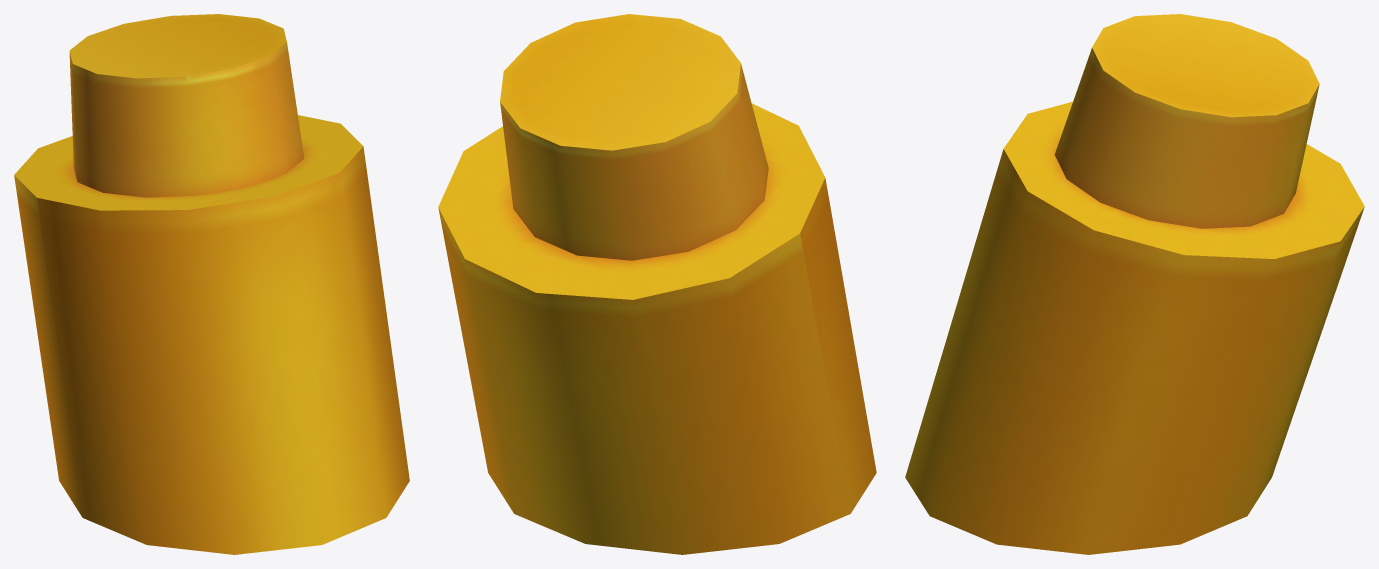
The model's file is zhishengji04.FBX.
3 renders of one model, left to right at view 1: azimuth 30°, elevation 25°; view 2: azimuth 150°, elevation 25°; view 3: azimuth 270°, elevation 25°, orthographic. The views are drawn at different scales.
Parts seen in each view (by area): view 1: zhishengji04; view 2: zhishengji04; view 3: zhishengji04.
Boxes of the visible parts, x1,y1,x2,y2 form: zhishengji04: (14,14,409,554); zhishengji04: (438,14,876,554); zhishengji04: (905,14,1364,554).
Bounding box in the file's own units: 6.61 × 8.55 × 8.28.
